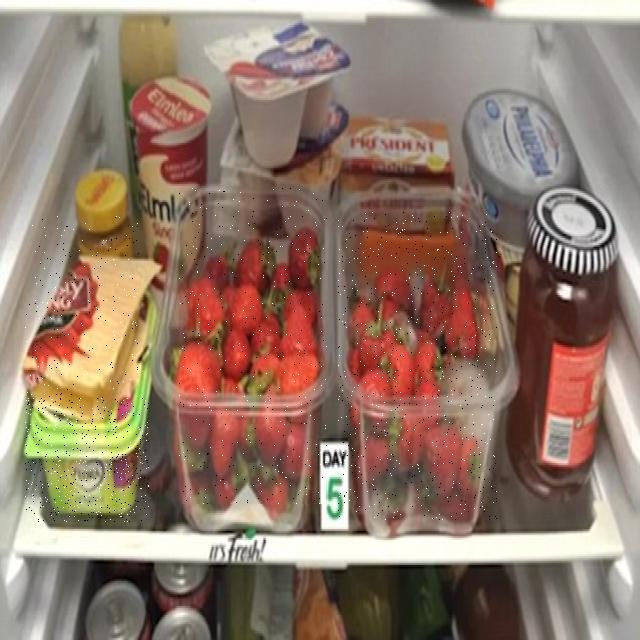butter: (25, 398, 149, 522)
cheese: (25, 216, 139, 402)
strawberries: (338, 212, 497, 521), (180, 188, 328, 504)
